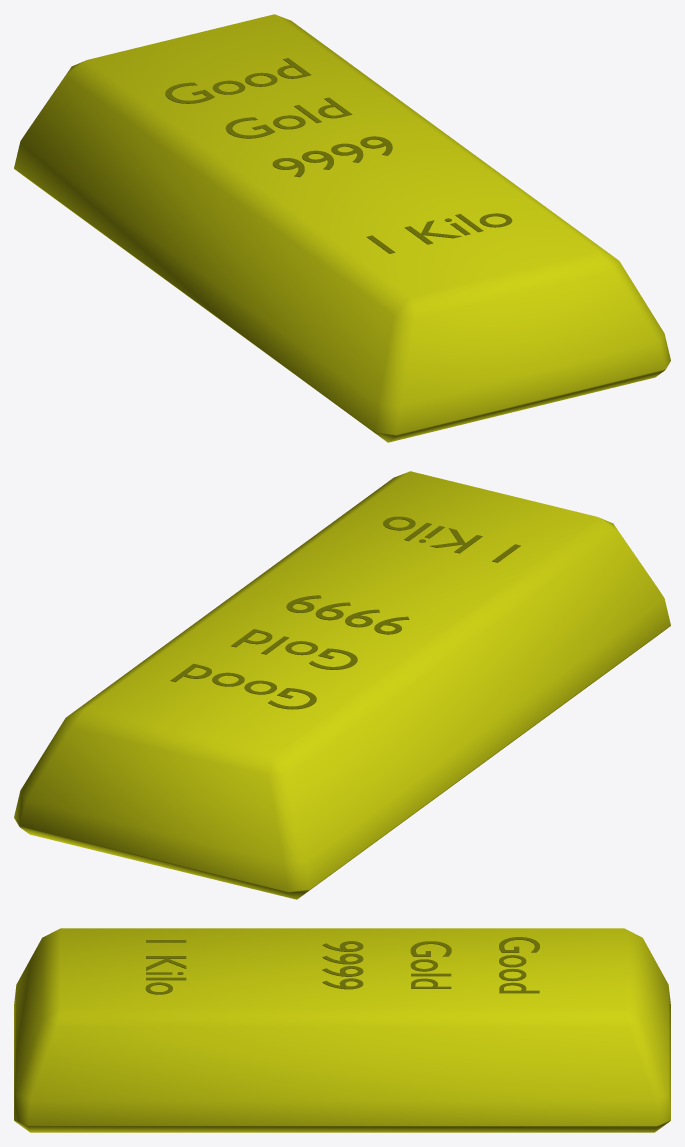
The model's file is Gold.glb.
3 renders of one model, top to bottom at view 1: azimuth 30°, elevation 25°; view 2: azimuth 150°, elevation 25°; view 3: azimuth 270°, elevation 25°, orthographic. The views are drawn at different scales.
Visible parts, largest first — view 1: Cube, Text; view 2: Cube, Text; view 3: Cube, Text.
Part boxes in pixels (x1=…): Cube: x1=14, y1=14, x2=670, y2=442; Text: x1=165, y1=58, x2=512, y2=253; Cube: x1=14, y1=471, x2=670, y2=899; Text: x1=170, y1=516, x2=520, y2=709; Cube: x1=14, y1=928, x2=670, y2=1132; Text: x1=145, y1=937, x2=539, y2=994.
Bounding box in the file's own units: 1.82 × 0.7285 × 4.02.
